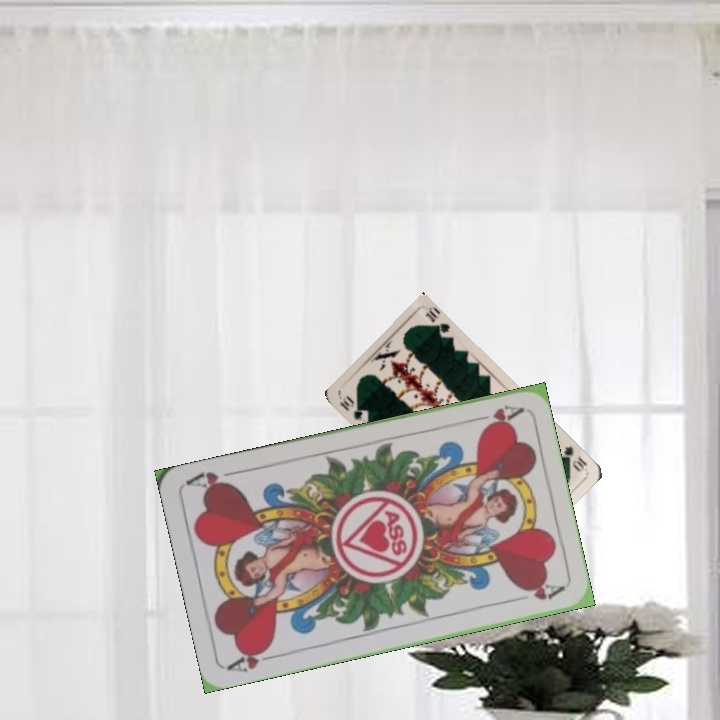G10: (336, 391, 372, 424), (559, 442, 589, 474)
HA: (224, 642, 282, 676), (466, 401, 525, 431)
